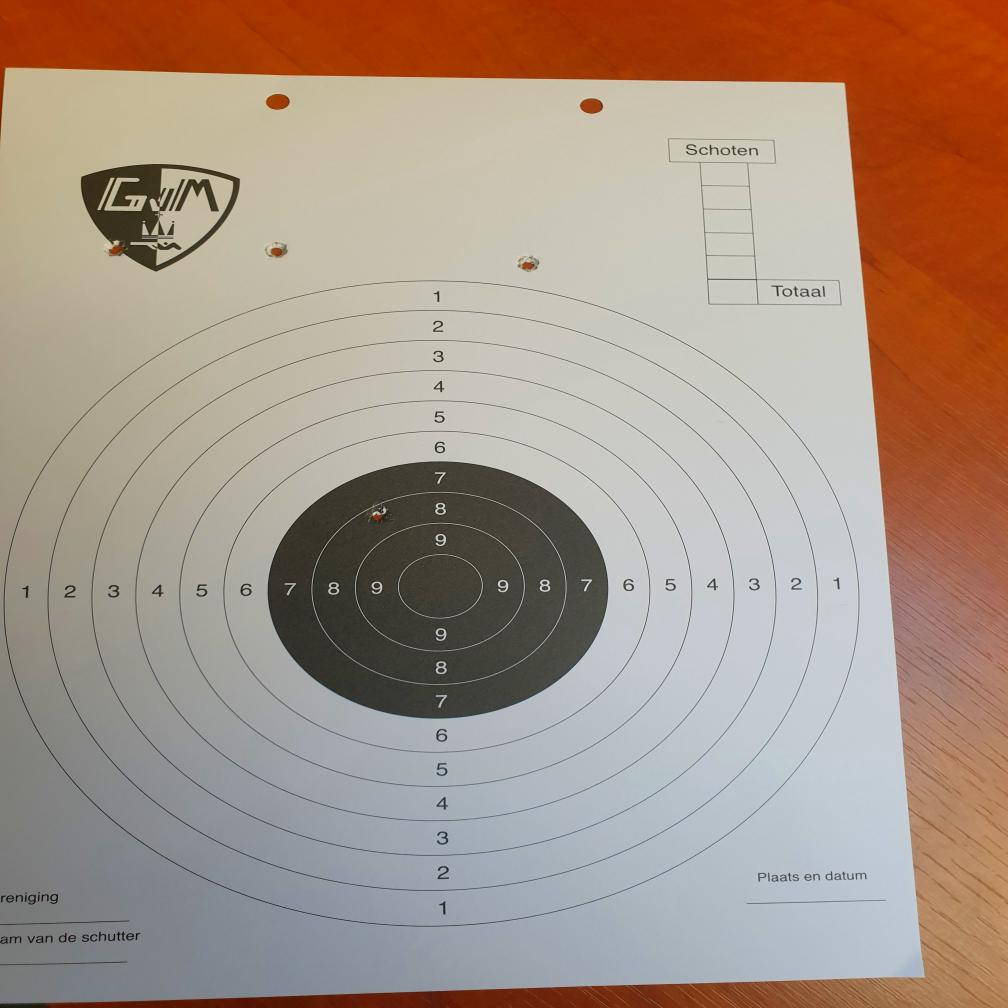0: (514, 254, 542, 273), (102, 238, 126, 258), (264, 241, 289, 260)
8: (366, 504, 394, 523)
Target: (0, 278, 864, 928)
black_contour: (270, 460, 609, 719)
